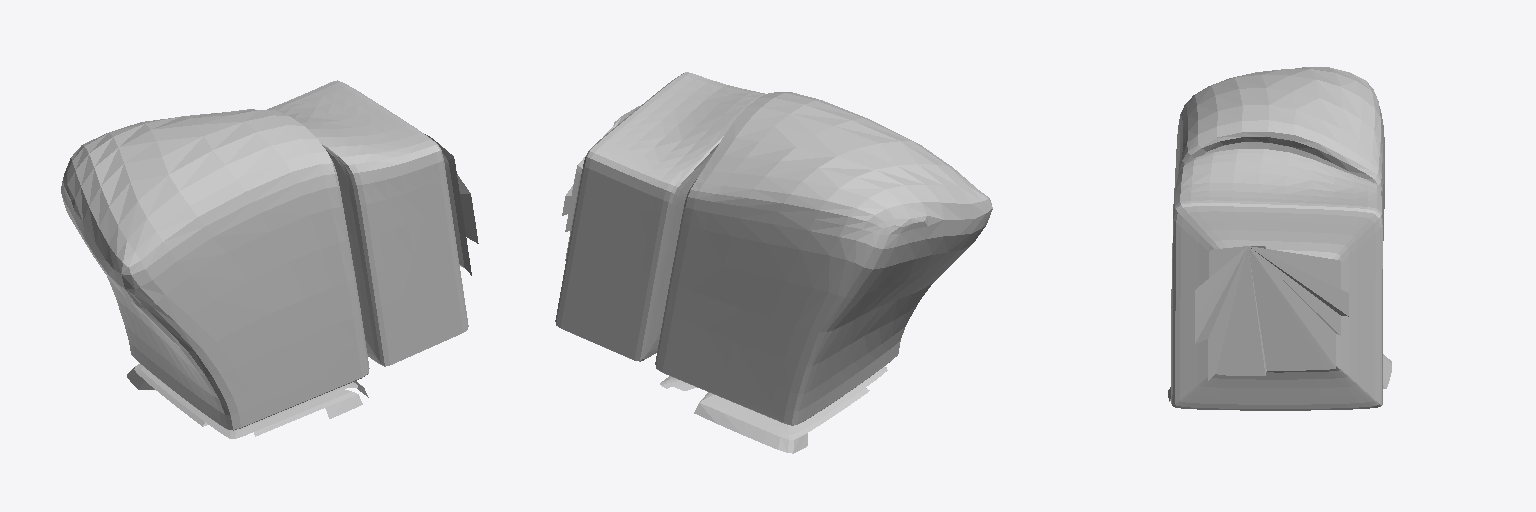
File: Homb Izq.obj
3 renders of one model, left to right at view 1: azimuth 30°, elevation 25°; view 2: azimuth 150°, elevation 25°; view 3: azimuth 270°, elevation 25°, orthographic.
Visible parts, largest first — view 1: Cyborg.Mesh_Cube; view 2: Cyborg.Mesh_Cube; view 3: Cyborg.Mesh_Cube.
Part boxes in pixels (bbox=[...]): Cyborg.Mesh_Cube: bbox=[61, 80, 478, 438]; Cyborg.Mesh_Cube: bbox=[555, 72, 992, 453]; Cyborg.Mesh_Cube: bbox=[1168, 67, 1391, 410].
Size of the model in its own units: 1.18 by 0.8954 by 0.6388.